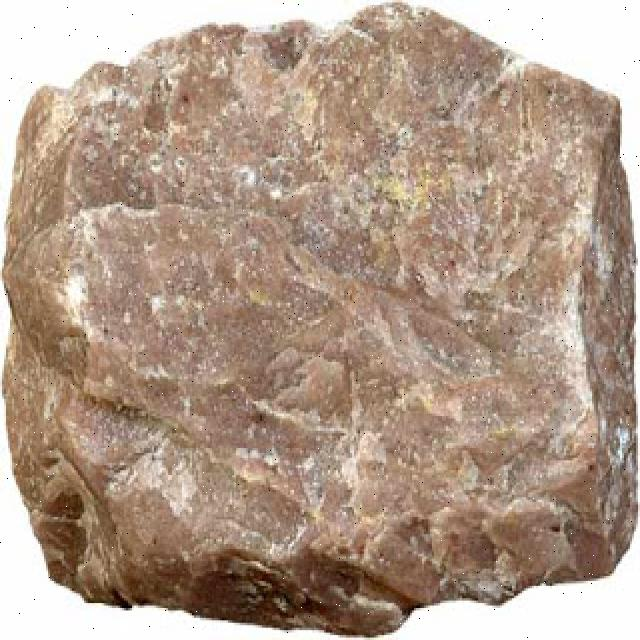Metamorphic: (6, 15, 638, 625)
